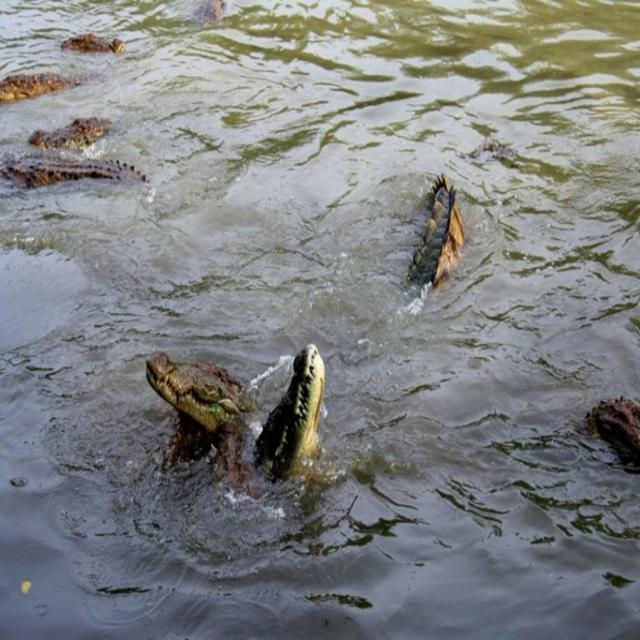crocodile: (251, 343, 328, 479), (409, 178, 460, 287), (592, 393, 639, 458)
